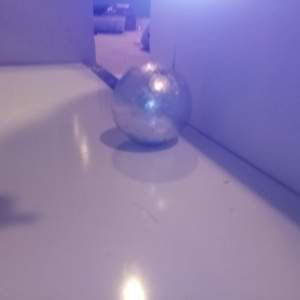alive_ball: (112, 62, 192, 146)
